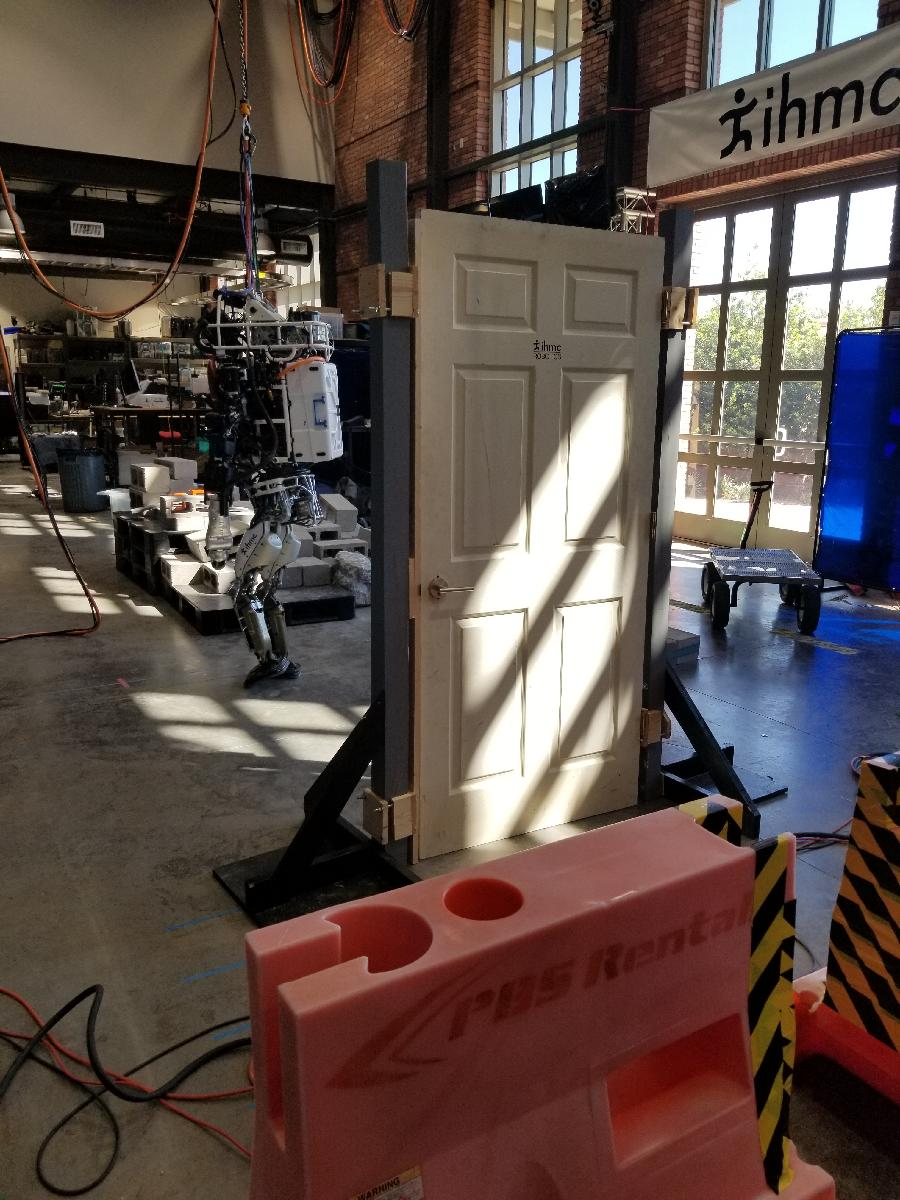door: (411, 204, 668, 867)
doorHandle: (428, 572, 481, 611)
